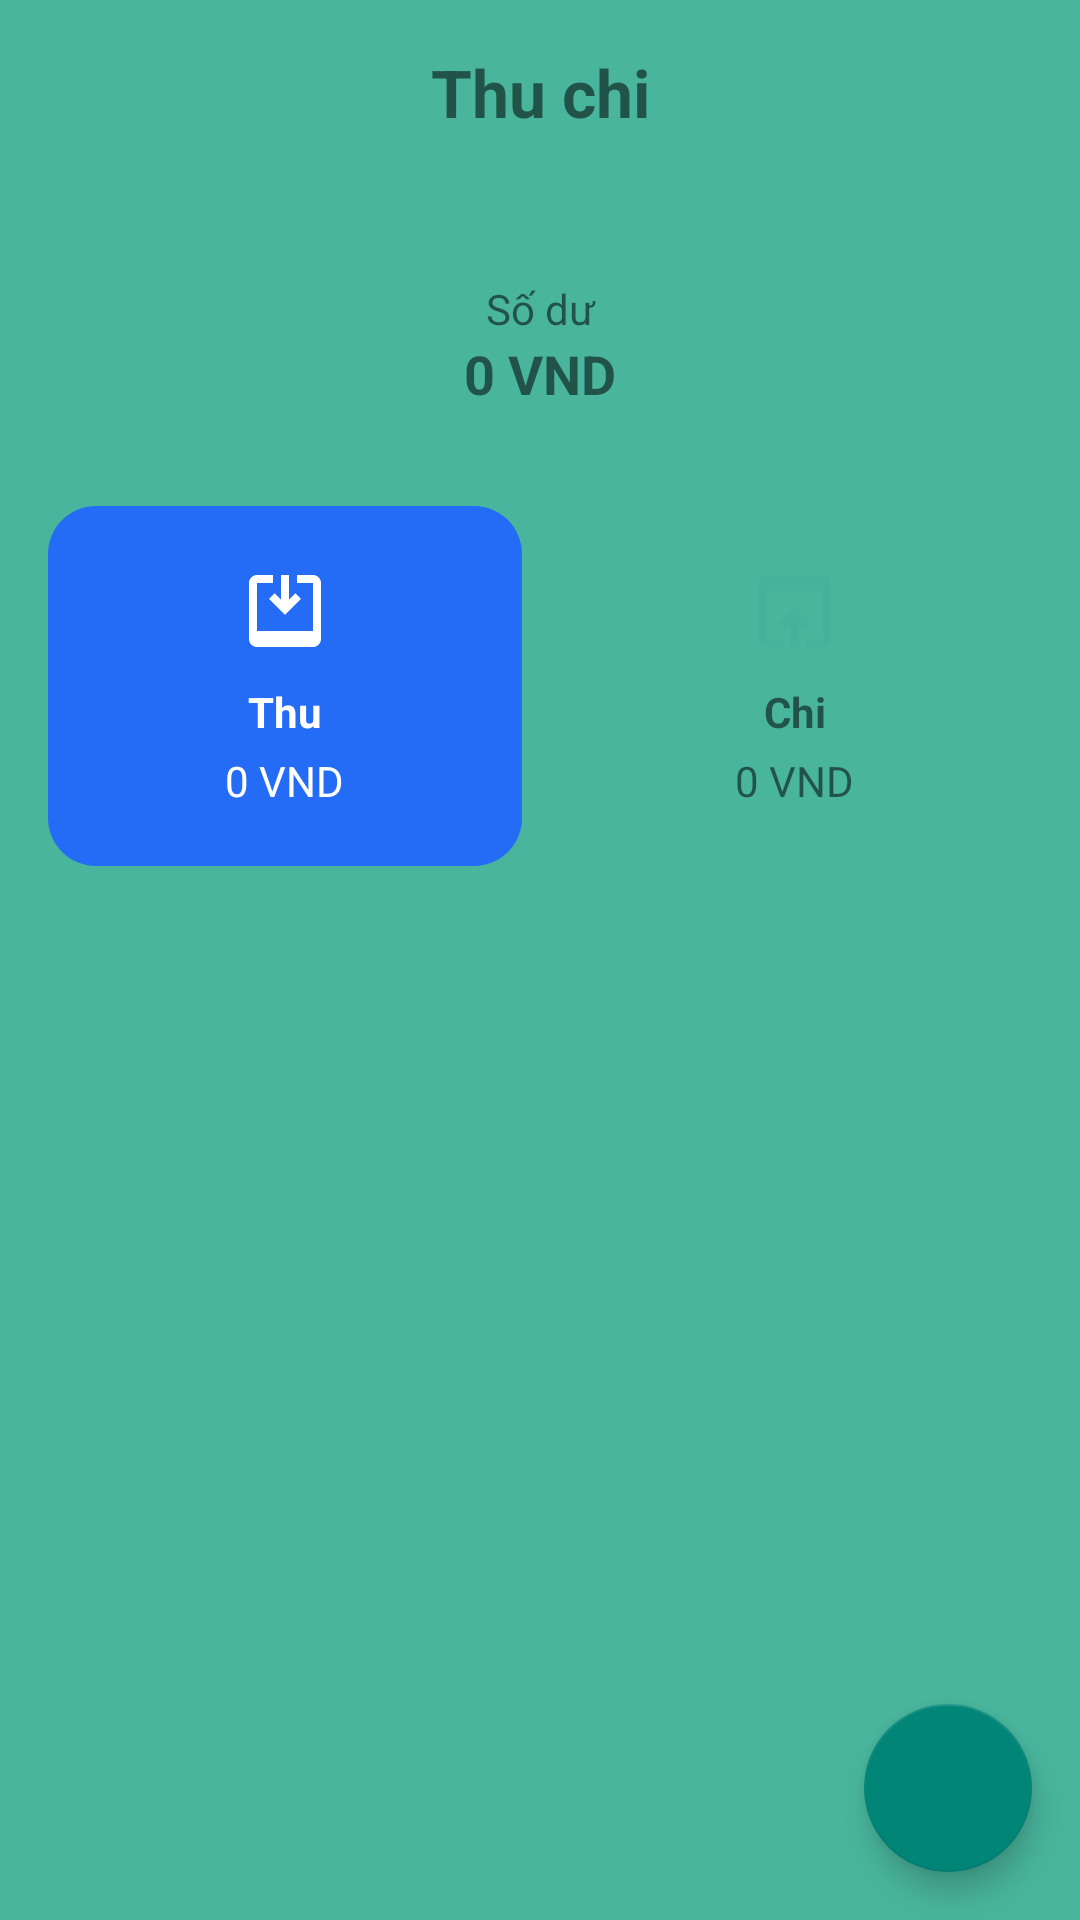

Icon bounding boxes for this 1080px×1920px phone screenshot, format (x1, y1, x2, y2):
Income icon: (249, 575, 321, 647)
